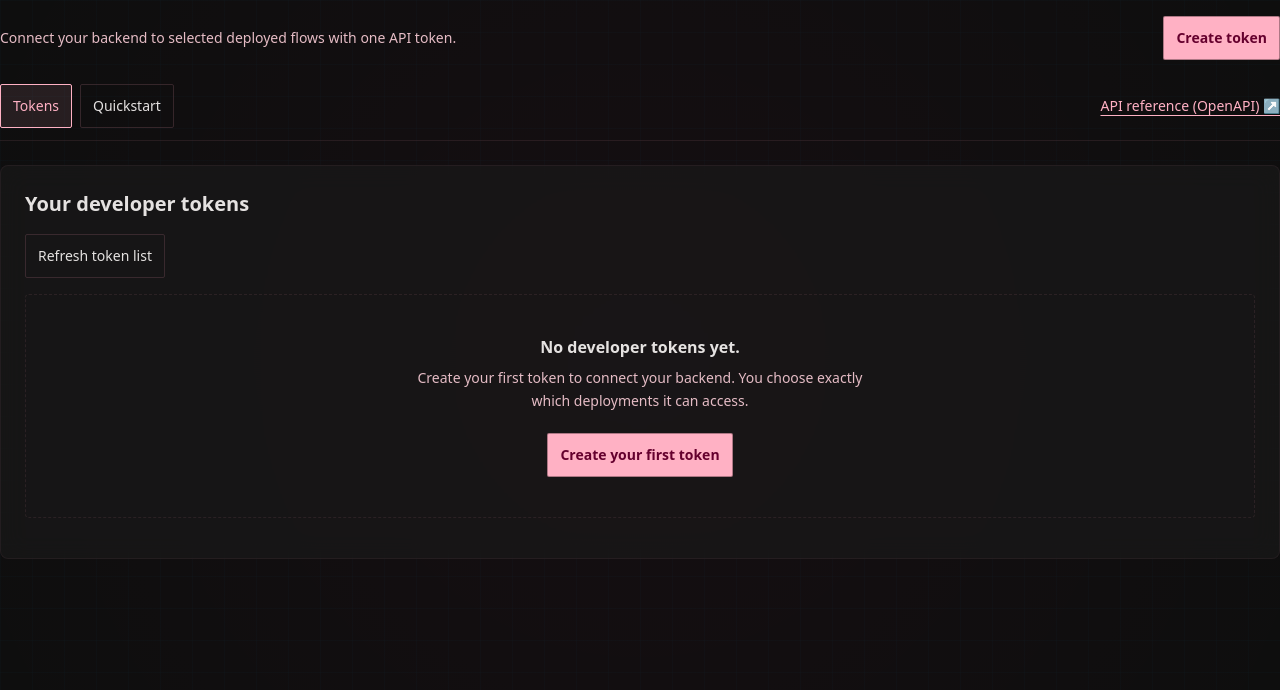
developer token management › validates client selection and shows actionable server field errors without discarding choices
Expected: the button "Refresh token list" is shown, [25, 234, 165, 278]
What coordinates should you click on to do the following:
click the button "Create token"
I would click on:
 (1222, 38)
Its box is [1163, 16, 1279, 60].
(page scrolled)
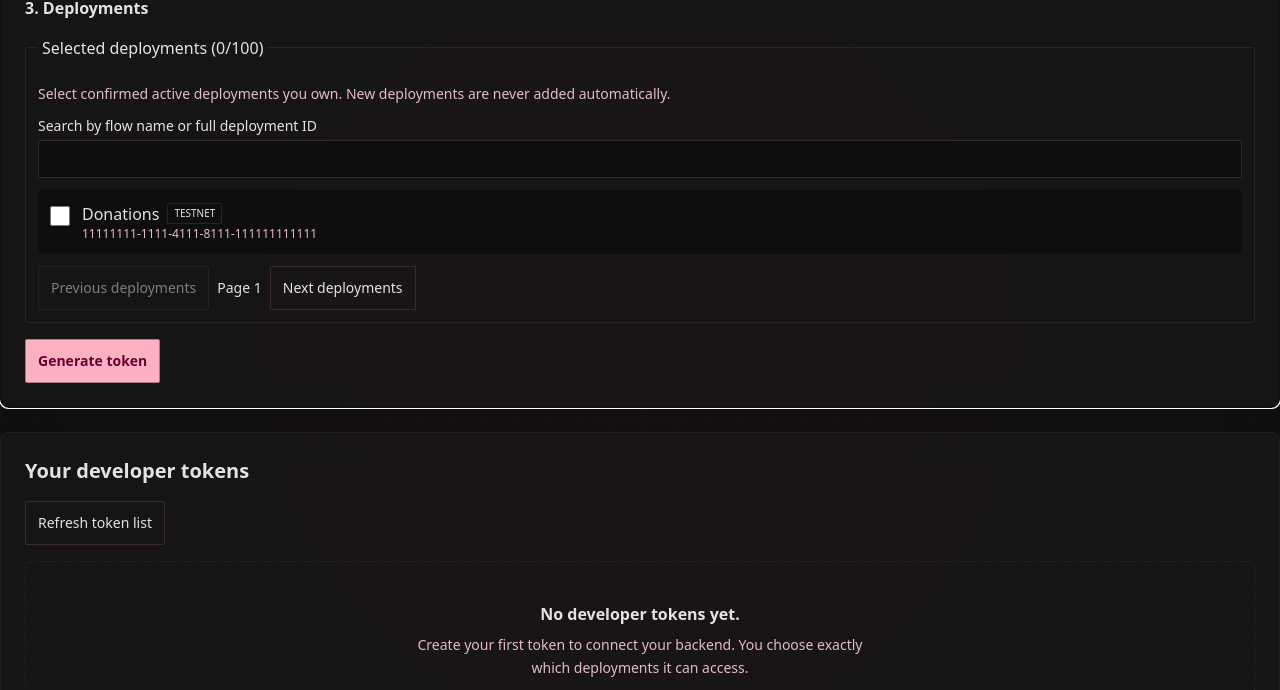
Result: the checkbox labelled "Donations testnet 11111111-1111-4111-8111-111111111111" is shown at [50, 206, 70, 226]
What coordinates should you click on to do the following:
click the button "Generate token"
I would click on:
 (93, 361)
Its box is [25, 339, 160, 383].
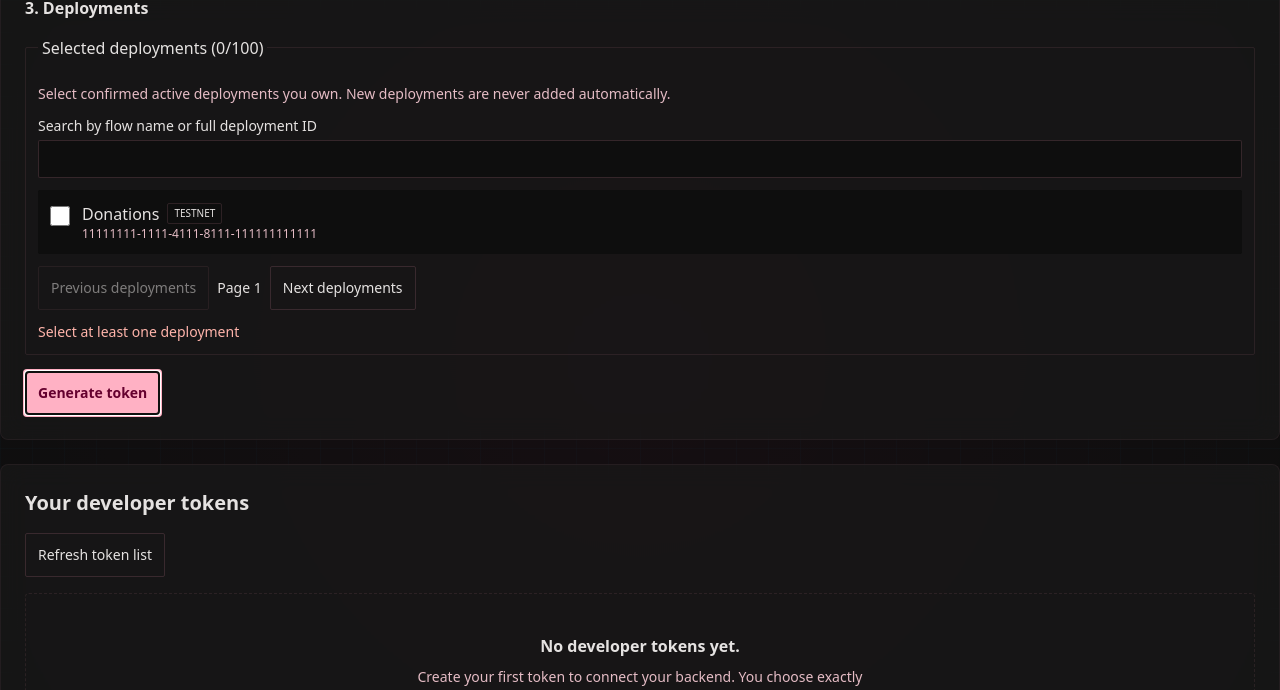
Result: the message reads "Select at least one deployment" at [38, 322, 239, 341]
What coordinates should you click on to do the following:
click the checkbox labelled "Donations testnet 11111111-1111-4111-8111-111111111111"
I would click on:
 (60, 216)
Its box is [50, 206, 70, 226].
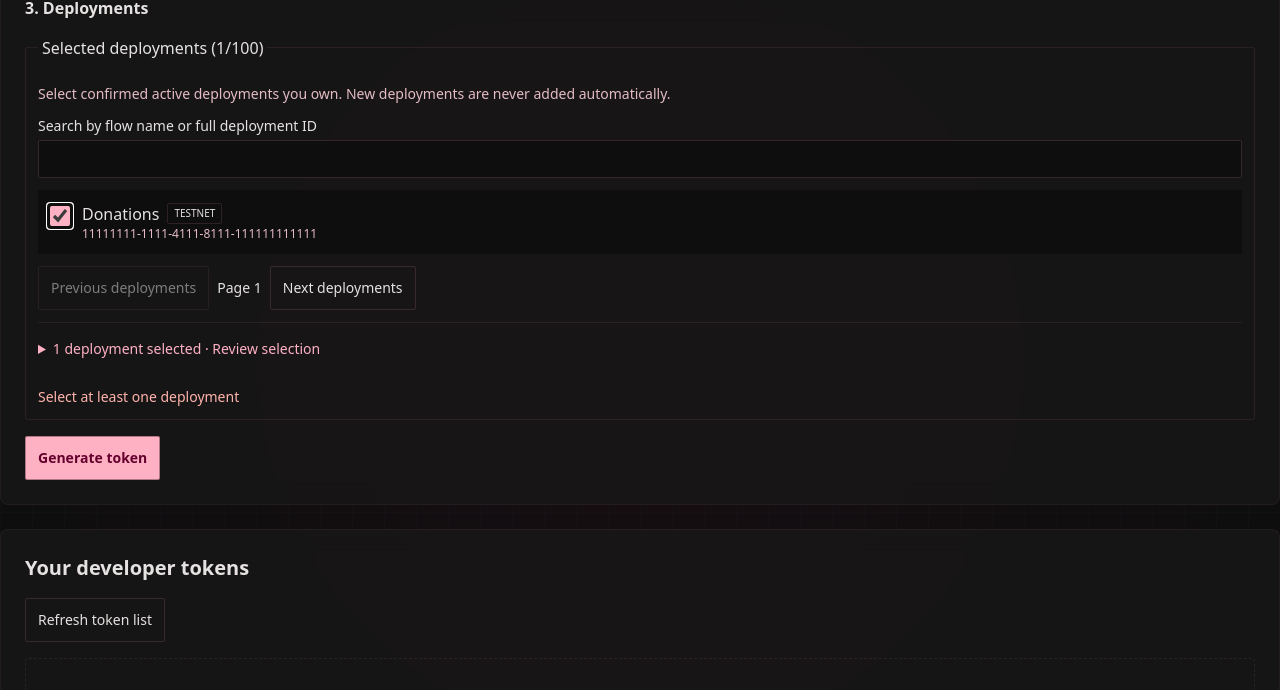
What coordinates should you click on to do the following:
click the button "Generate token"
I would click on:
 (93, 458)
Its box is [25, 436, 160, 480].
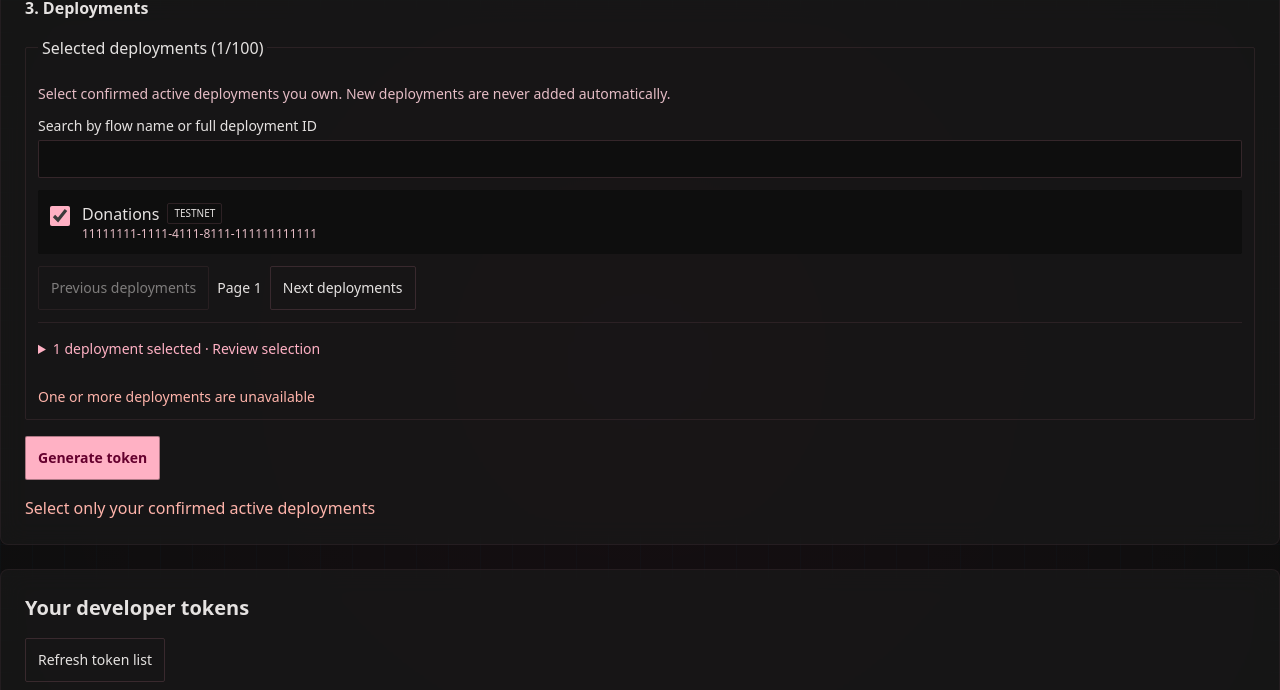
Result: the checkbox labelled "Donations testnet 11111111-1111-4111-8111-111111111111" is checked at [50, 206, 70, 226]
Result: the text "One or more deployments are unavailable" is shown at [38, 387, 315, 406]
